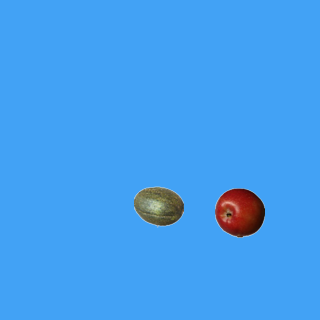Apple Braeburn: (214, 187, 264, 237)
Melon Piel de Sapo: (133, 181, 183, 231)
